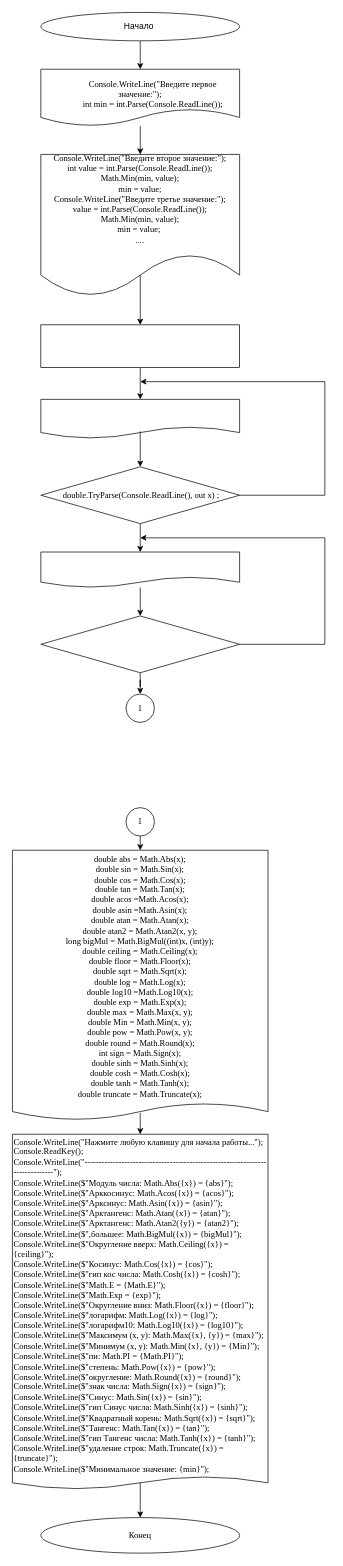
The diagram is 343 pixels wide and 1566 high, and some of its shapes have lost their labels. The shapes that lost their labels are listed below. From the top down, each one's centre as x and y in pixels, then its label:
the point at 140,345: double x = 0, y = 0;
the point at 140,418: Console.WriteLine("Введите значение x: ");
the point at 140,569: Console.WriteLine("Введите значение y: ");
the point at 140,644: double.TryParse(Console.ReadLine(), out y) ;
